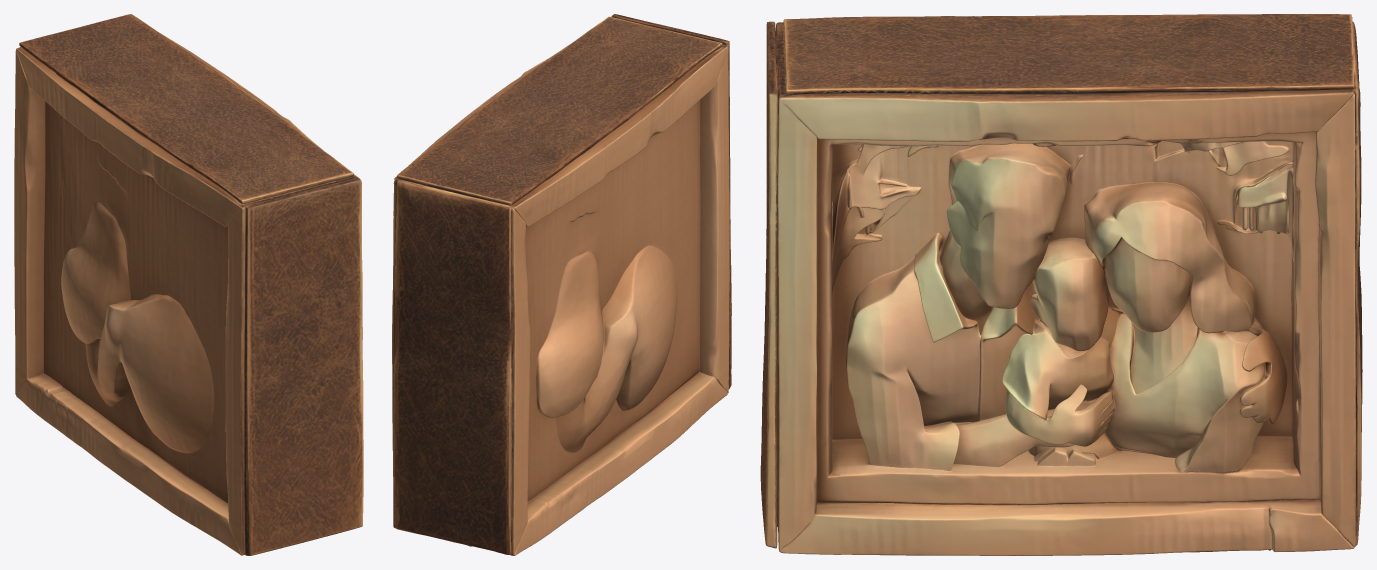
The model's file is foto 2.glb.
3 views of the same model, side by side, from view 1: azimuth 30°, elevation 25°; view 2: azimuth 150°, elevation 25°; view 3: azimuth 270°, elevation 25° (orthographic). The views are drawn at different scales.
Visible parts, largest first — view 1: vizcom_node_0; view 2: vizcom_node_0; view 3: vizcom_node_0.
Part boxes in pixels (<box>): vizcom_node_0: <box>14,14,363,555</box>; vizcom_node_0: <box>392,14,731,555</box>; vizcom_node_0: <box>760,14,1362,555</box>.
Bounding box in the file's own units: 0.1279 × 0.3 × 0.3489.
1 material, 1 textured.
